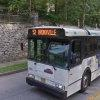buses: (23, 24, 100, 100)
